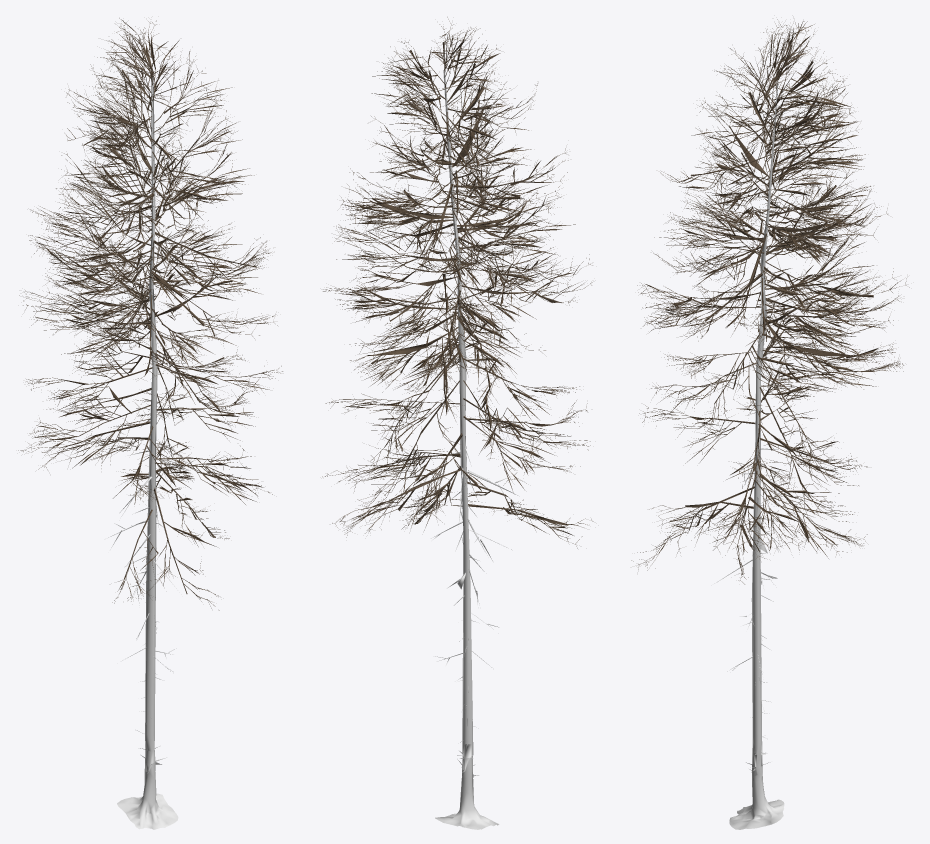
The model's file is Fir_0_LOD2.fbx.
3 views of the same model, side by side, from view 1: azimuth 30°, elevation 25°; view 2: azimuth 150°, elevation 25°; view 3: azimuth 270°, elevation 25° (orthographic). The views are drawn at different scales.
Parts seen in each view (by area): view 1: Fir_0_LOD2; view 2: Fir_0_LOD2; view 3: Fir_0_LOD2.
Part boxes in pixels (bbox=[...]): Fir_0_LOD2: bbox=[18, 18, 282, 829]; Fir_0_LOD2: bbox=[322, 17, 593, 829]; Fir_0_LOD2: bbox=[631, 19, 909, 829].
Bounding box in the file's own units: 630 × 1888 × 613.
